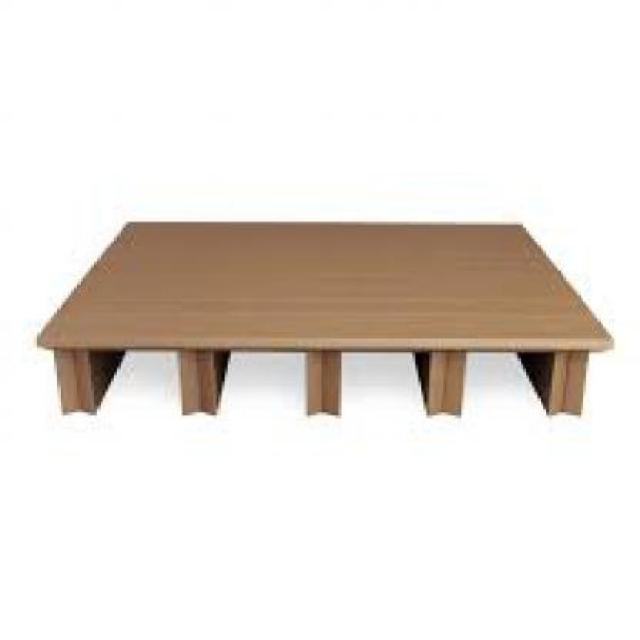cardboard: (34, 215, 608, 418)
